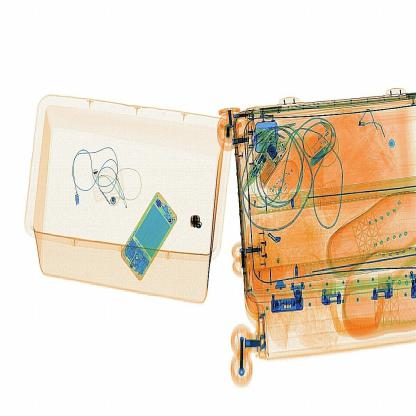scissors: (189, 209, 204, 234)
